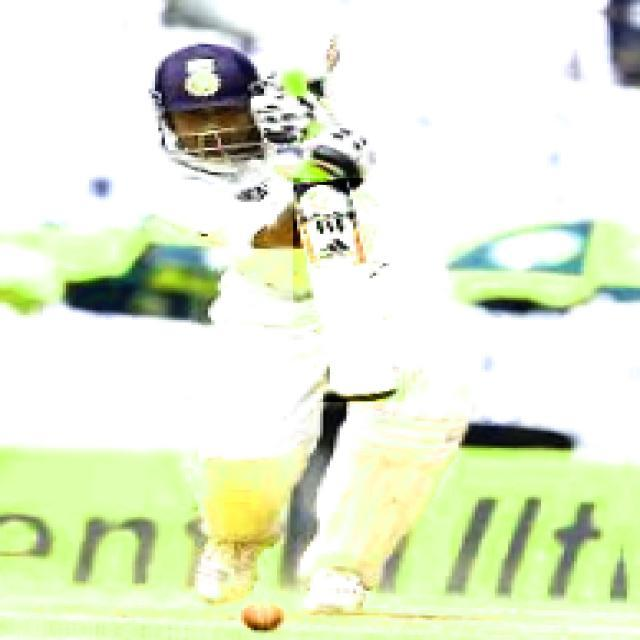bat: (290, 184, 400, 402)
toe: (330, 384, 402, 402)
